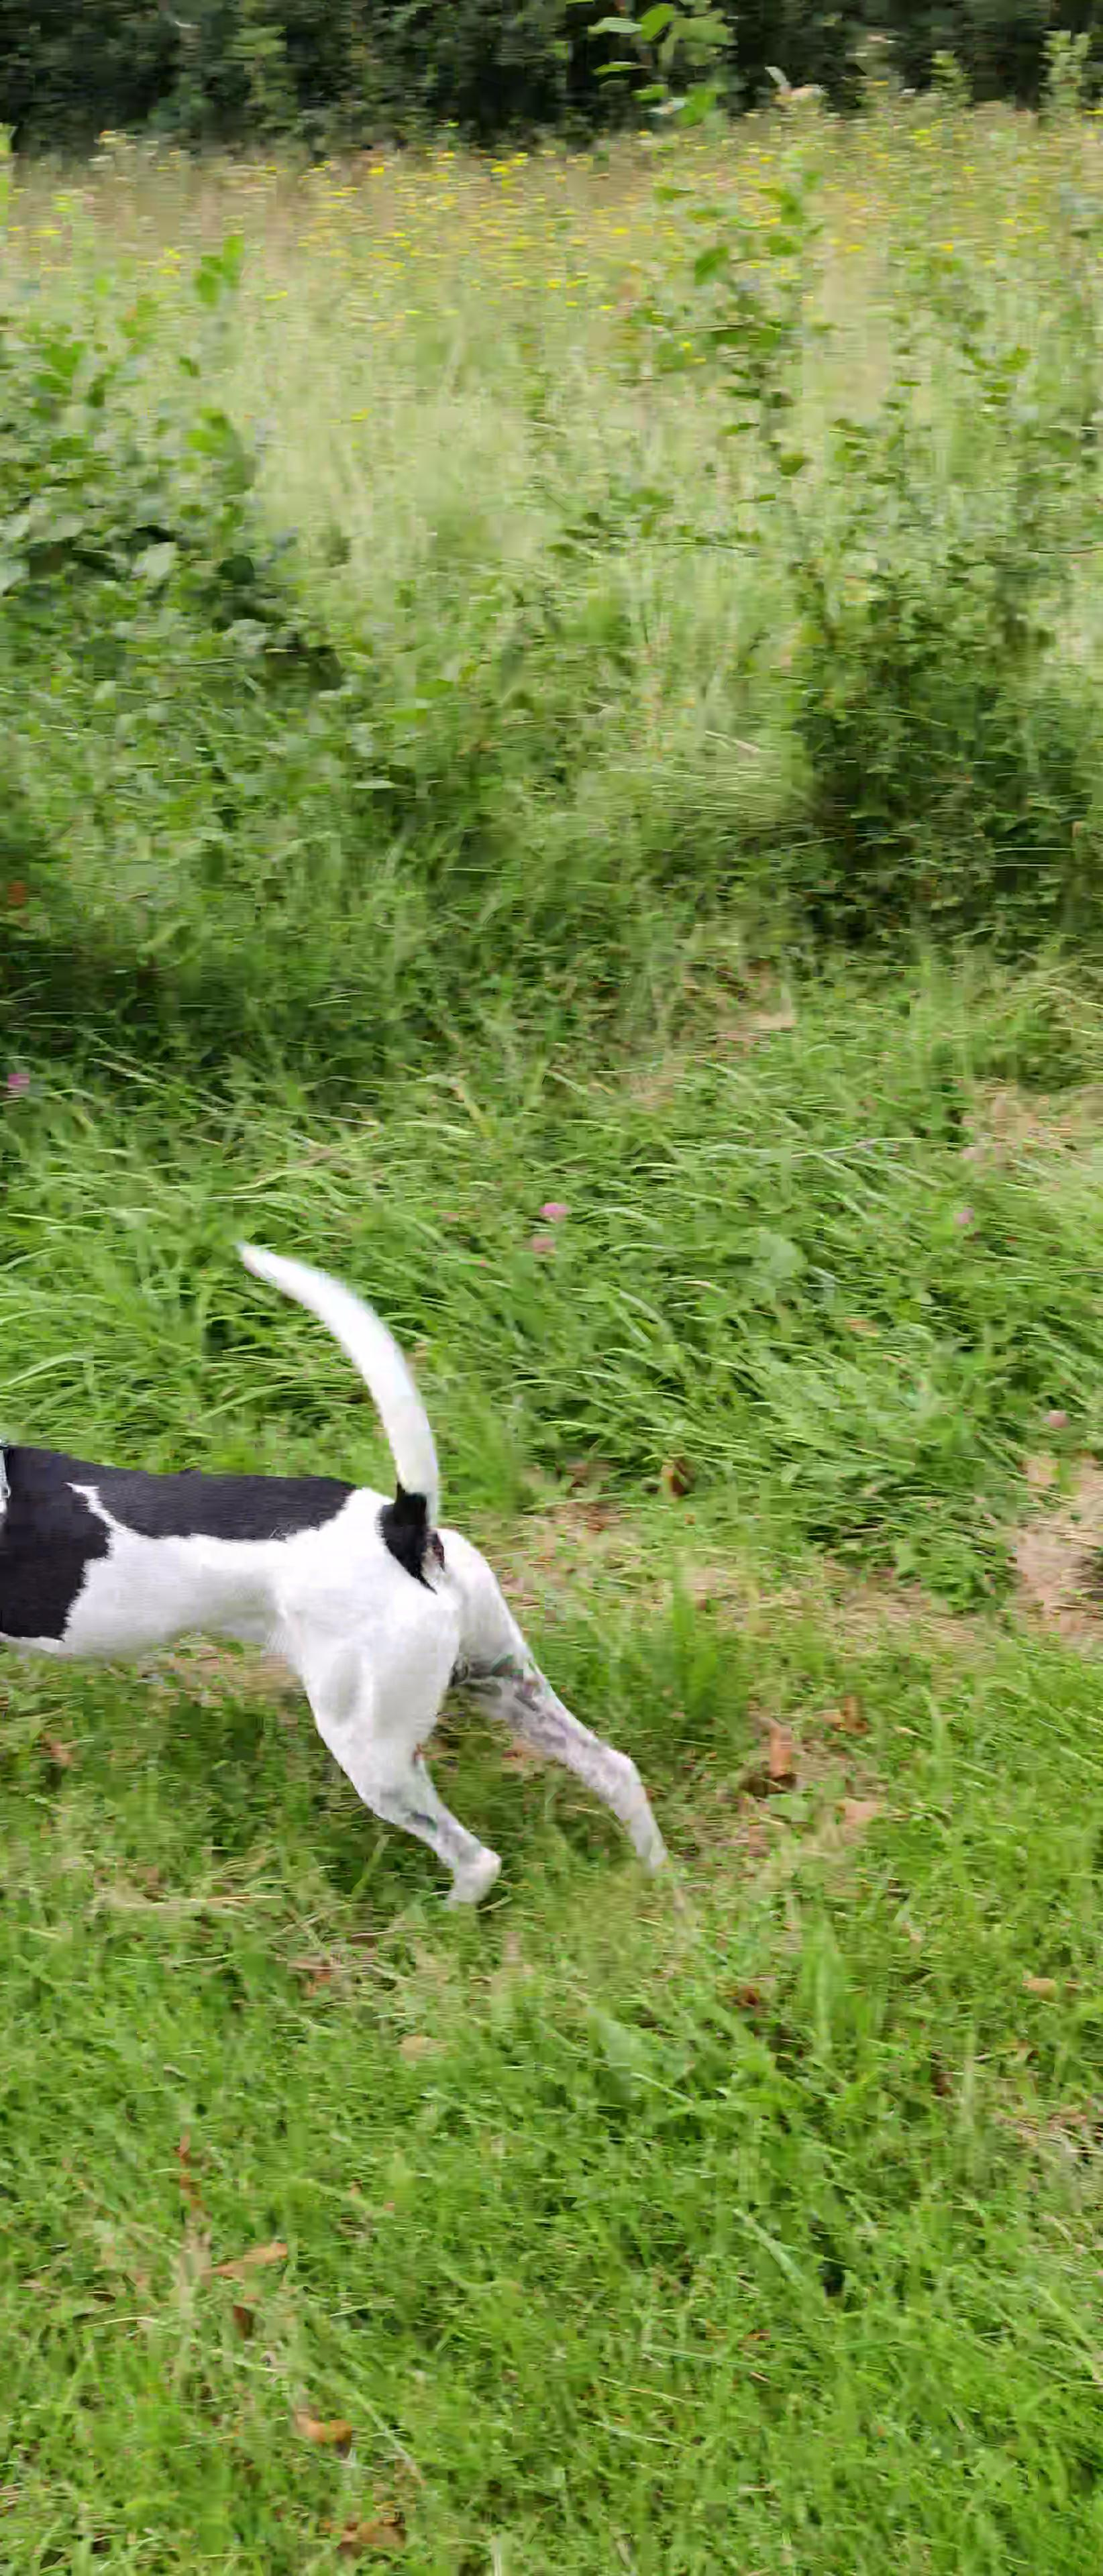Dog: (0, 1234, 684, 1919)
